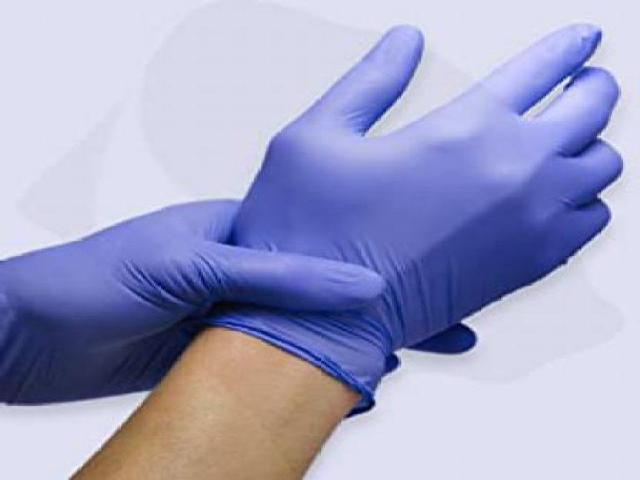Hand-in-Glove: (200, 15, 622, 389), (1, 197, 382, 442)
